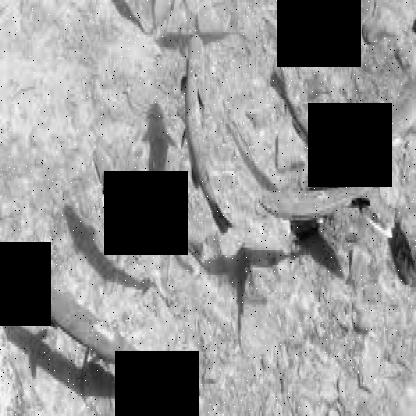fish: (23, 273, 187, 401), (92, 140, 205, 262), (176, 31, 229, 233)
